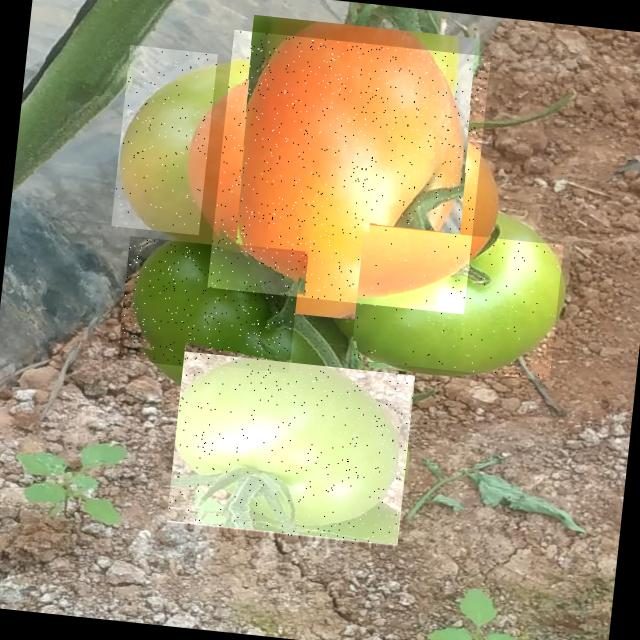Ripe Tomato: (207, 29, 490, 314)
Unripe Tomato: (166, 352, 414, 548), (350, 224, 563, 380), (117, 236, 301, 378), (110, 44, 218, 234)
